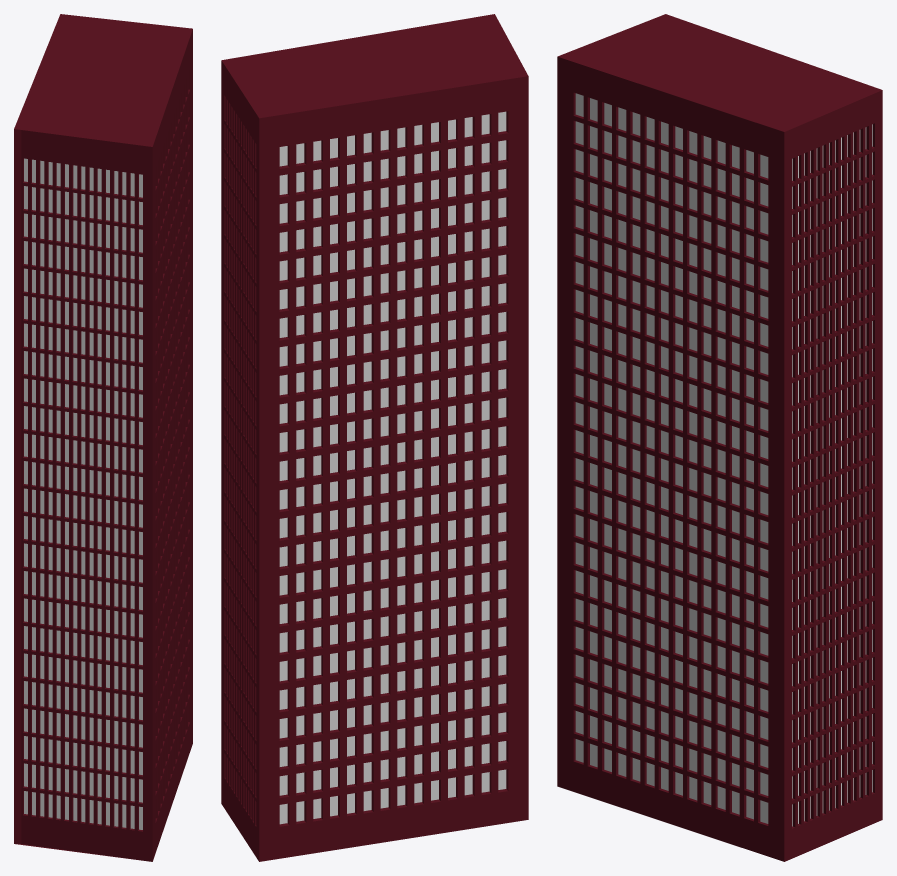
Rendered from TwoBeachfrontAvenue.fbx.
The picture shows the model from 3 angles, left to right: view 1: azimuth 30°, elevation 25°; view 2: azimuth 150°, elevation 25°; view 3: azimuth 270°, elevation 25°; orthographic projection. The views are drawn at different scales.
Visible parts, largest first — view 1: 2BeachfrontAvenue; view 2: 2BeachfrontAvenue; view 3: 2BeachfrontAvenue.
Part boxes in pixels (<box>): 2BeachfrontAvenue: <box>14,14,192,861</box>; 2BeachfrontAvenue: <box>221,14,528,861</box>; 2BeachfrontAvenue: <box>557,14,882,861</box>.
Bounding box in the file's own units: 3471 × 10000 × 4041.
